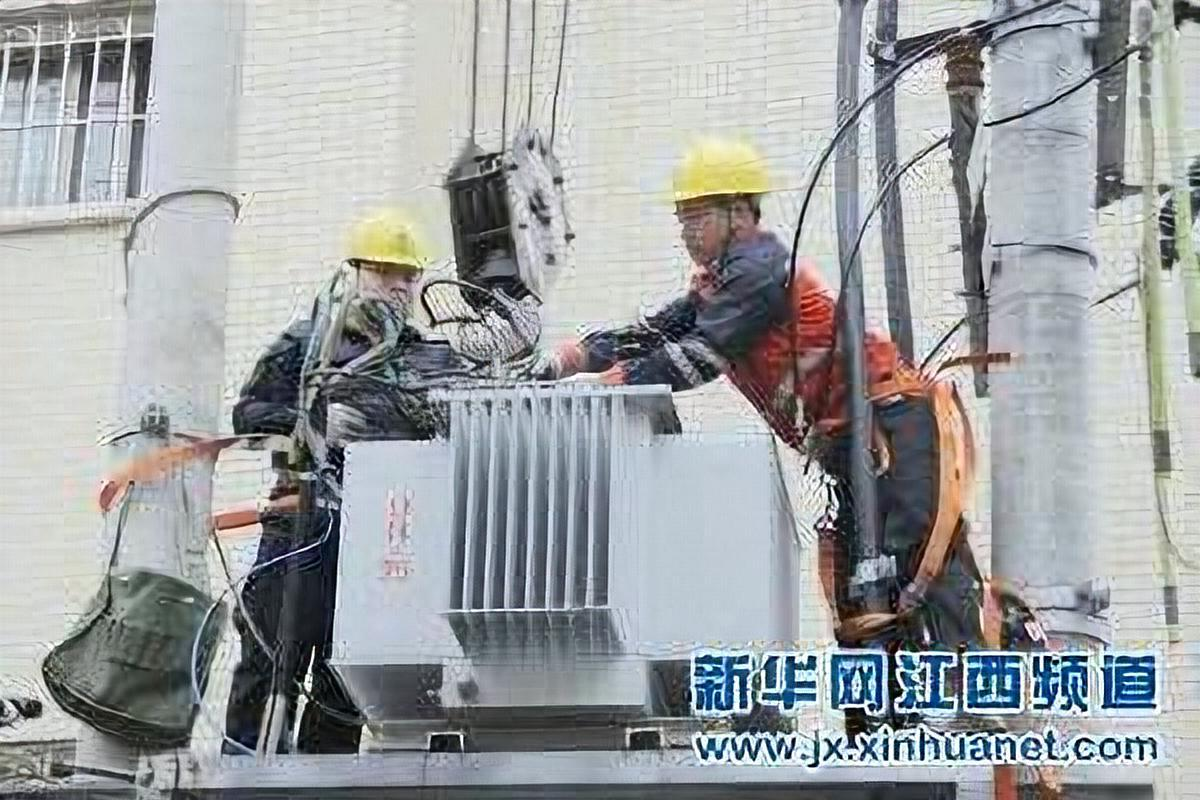hardHat: (653, 127, 780, 267), (338, 199, 434, 315)
